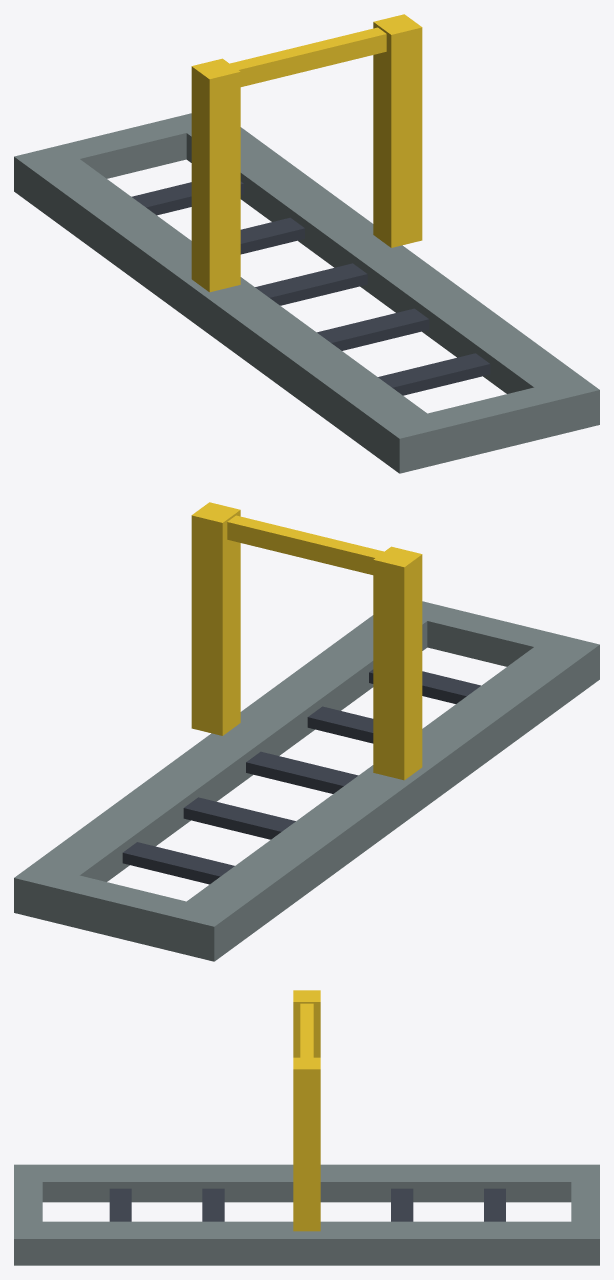
File: bridge_part_02_s02.FBX
3 renders of one model, top to bottom at view 1: azimuth 30°, elevation 25°; view 2: azimuth 150°, elevation 25°; view 3: azimuth 270°, elevation 25°, orthographic. The views are drawn at different scales.
Parts seen in each view (by area): view 1: bridge_part_02_s02; view 2: bridge_part_02_s02; view 3: bridge_part_02_s02.
Boxes of the visible parts, box(x1,y1,x2,y2) form: bridge_part_02_s02: box(14, 14, 599, 473); bridge_part_02_s02: box(14, 502, 599, 961); bridge_part_02_s02: box(14, 990, 599, 1265).
Bounding box in the file's own units: 638 × 2000 × 748.
Materials: 1 (1 with a texture image).
